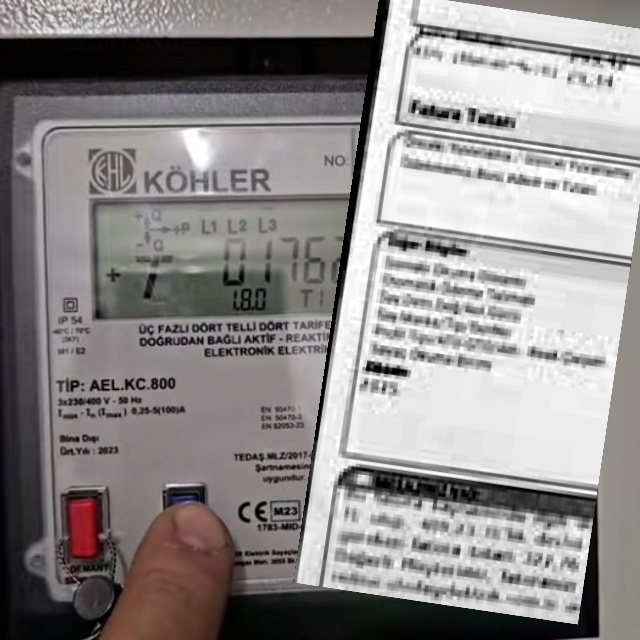electricity-bill: (292, 0, 640, 624)
